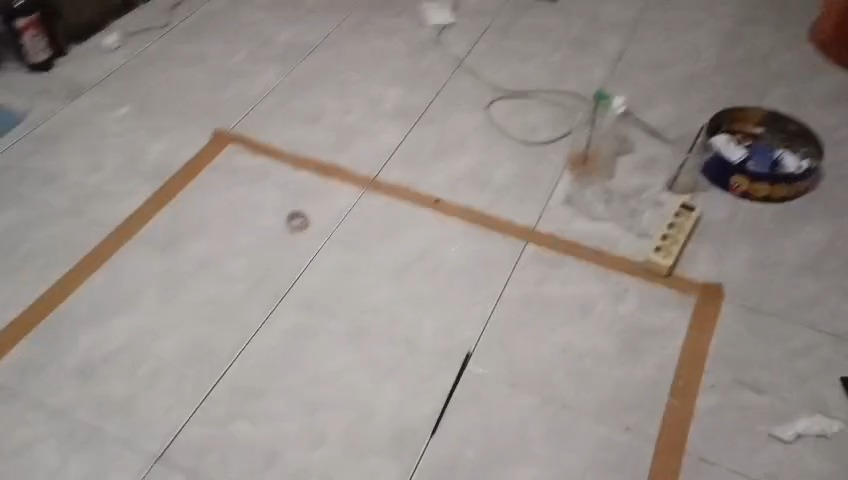floor marking: (0, 129, 723, 479)
